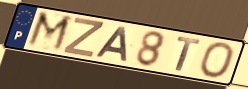8: (135, 30, 166, 68)
A: (94, 26, 129, 63)
M: (24, 9, 75, 54)
O: (198, 41, 236, 80)
T: (174, 36, 202, 73)
Z: (61, 16, 105, 59)
